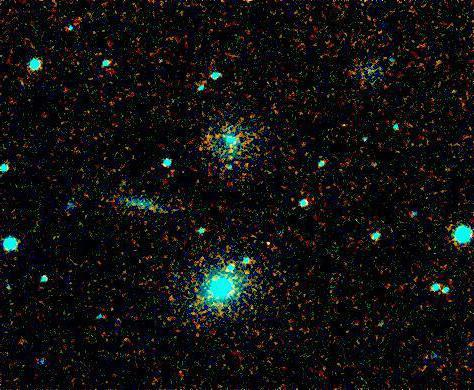star: (256, 227, 286, 257)
